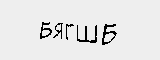Б: (99, 22, 118, 46), (37, 19, 51, 41)
Г: (64, 21, 73, 41)
Ш: (74, 23, 100, 46)
Я: (53, 22, 63, 41)
